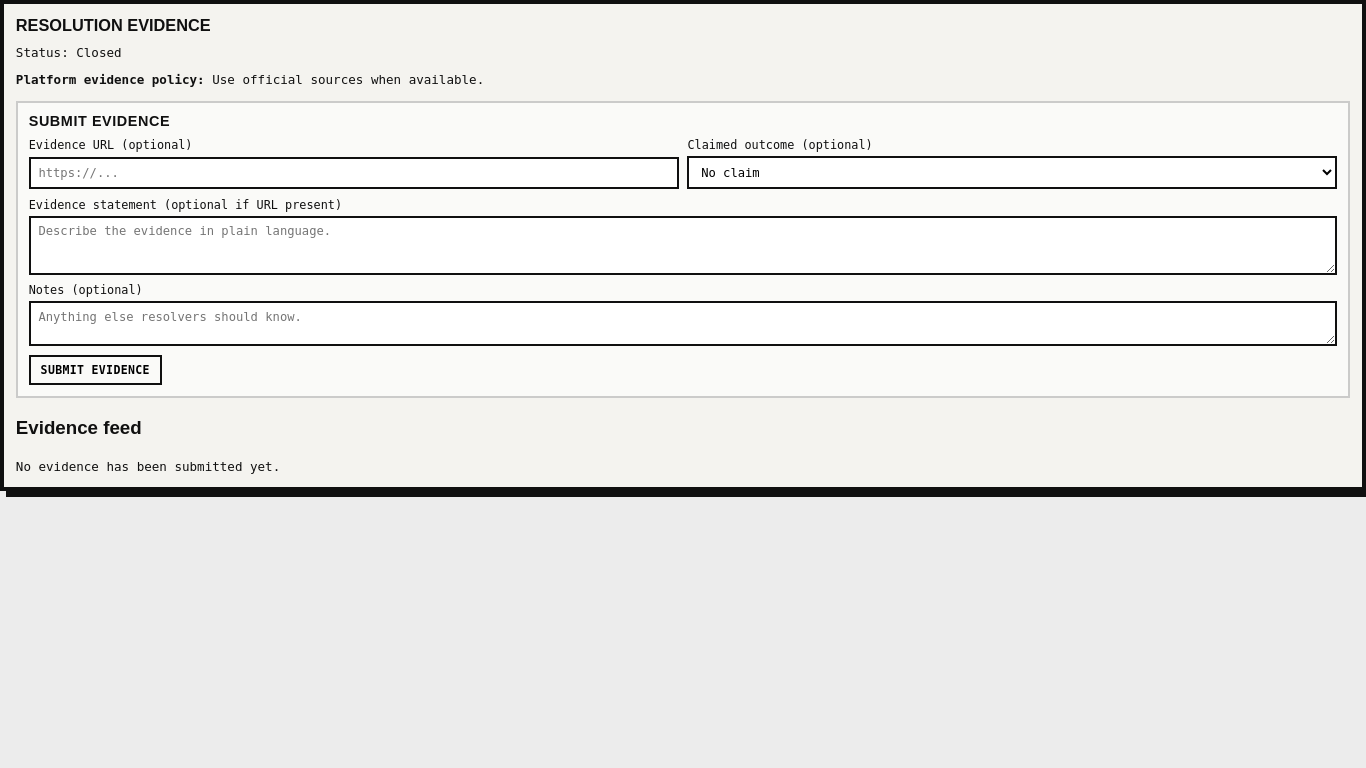
Test case: EvidenceSubmissionCard › surfaces detailed API validation errors without reloading
Type "Evidence text." into the text box labelled "Evidence statement (optional if URL present)" at (683, 245), box [29, 216, 1337, 275]
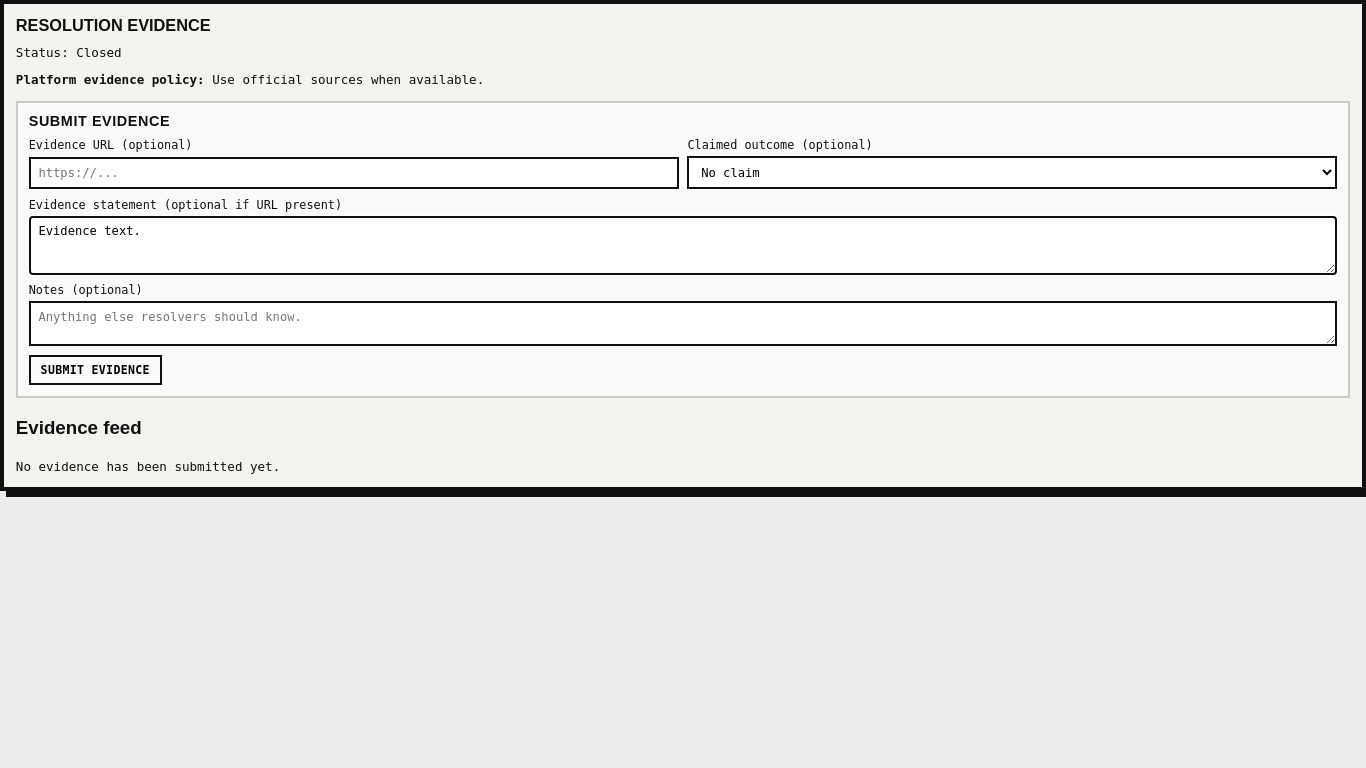
Click the button "Submit evidence" at (95, 370), box [29, 355, 162, 385]
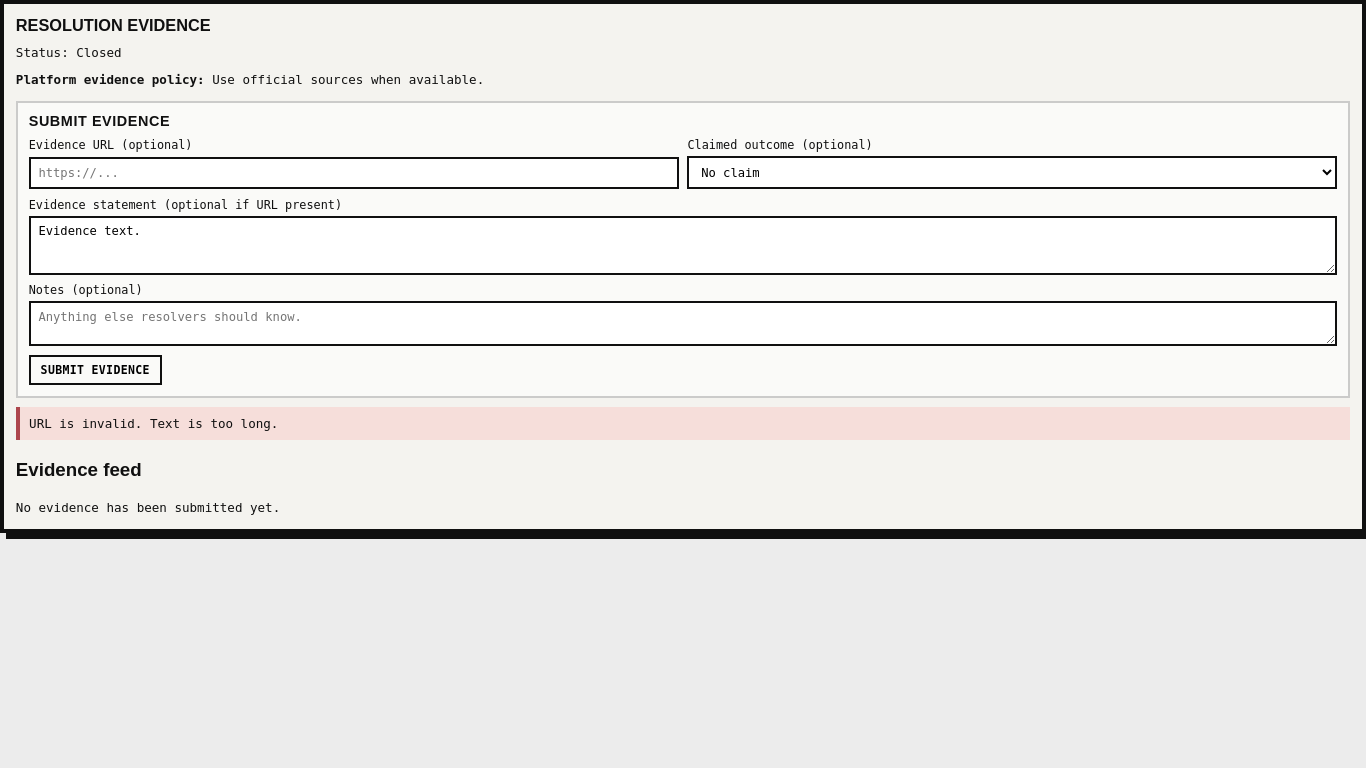
Expected: the text "URL is invalid. Text is too long." is shown, [16, 407, 1350, 440]
